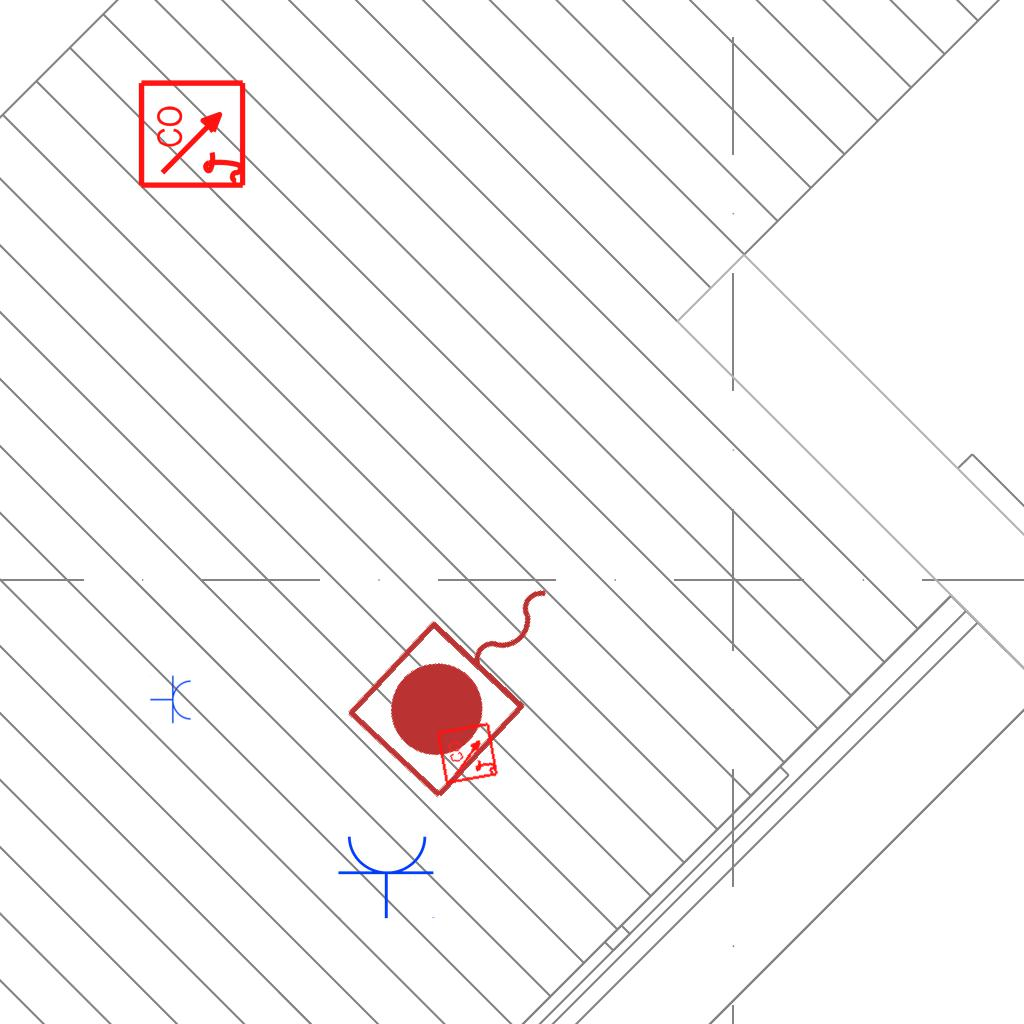ROA_Rauchmelder_optisch_mit_Signalgeber_(Sockelsirene): (137, 77, 250, 190), (435, 720, 501, 786)
Schukosteckdose_einfach: (337, 832, 437, 919), (150, 675, 193, 725)
Zugtaster: (336, 535, 608, 813)
